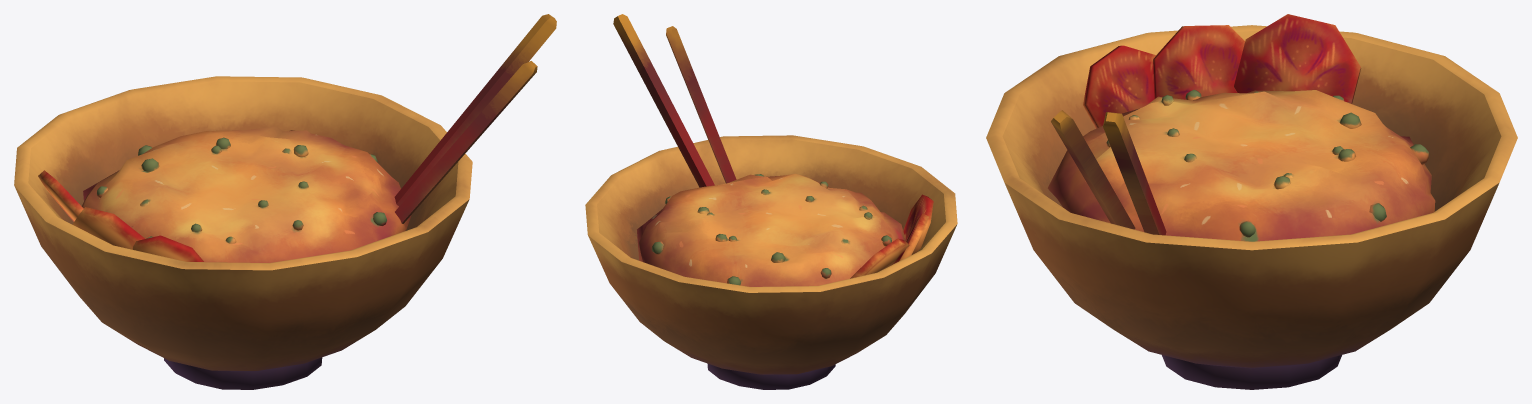
Rendered from Food_ArrozAlWok 2.fbx.
The picture shows the model from 3 angles, left to right: view 1: azimuth 30°, elevation 25°; view 2: azimuth 150°, elevation 25°; view 3: azimuth 270°, elevation 25°; orthographic projection. The views are drawn at different scales.
Visible parts, largest first — view 1: m_TazónArroz, m_Arroz, m_Palillo_02, m_Palillo_01, m_Tomate_02, m_Arbejas, m_Tomate_03, m_Tomate_01; view 2: m_TazónArroz, m_Arroz, m_Palillo_02, m_Palillo_01, m_Arbejas, m_Tomate_01, m_Tomate_03, m_Tomate_02; view 3: m_TazónArroz, m_Arroz, m_Tomate_01, m_Tomate_02, m_Tomate_03, m_Palillo_02, m_Palillo_01, m_Arbejas.
Boxes of the visible parts, left/top/right/bottom form: m_TazónArroz: left=14, top=76, right=472, bottom=389; m_Arroz: left=81, top=126, right=411, bottom=262; m_Palillo_02: left=394, top=14, right=556, bottom=206; m_Palillo_01: left=395, top=61, right=537, bottom=223; m_Tomate_02: left=72, top=207, right=144, bottom=249; m_Arbejas: left=96, top=137, right=386, bottom=243; m_Tomate_03: left=132, top=235, right=203, bottom=261; m_Tomate_01: left=38, top=170, right=83, bottom=221; m_TazónArroz: left=585, top=135, right=957, bottom=389; m_Arroz: left=637, top=173, right=904, bottom=286; m_Palillo_02: left=613, top=14, right=714, bottom=187; m_Palillo_01: left=666, top=26, right=736, bottom=183; m_Arbejas: left=652, top=174, right=891, bottom=285; m_Tomate_01: left=850, top=238, right=909, bottom=278; m_Tomate_03: left=903, top=194, right=933, bottom=254; m_Tomate_02: left=898, top=213, right=928, bottom=261; m_TazónArroz: left=986, top=25, right=1517, bottom=389; m_Arroz: left=1047, top=90, right=1435, bottom=241; m_Tomate_01: left=1234, top=14, right=1361, bottom=103; m_Tomate_02: left=1153, top=25, right=1245, bottom=99; m_Tomate_03: left=1083, top=45, right=1155, bottom=128; m_Palillo_02: left=1103, top=112, right=1166, bottom=235; m_Palillo_01: left=1051, top=110, right=1135, bottom=229; m_Arbejas: left=1106, top=89, right=1428, bottom=237.
Size of the model in its own units: 119 by 82.23 by 105.
Materials: 2 (2 with a texture image).
